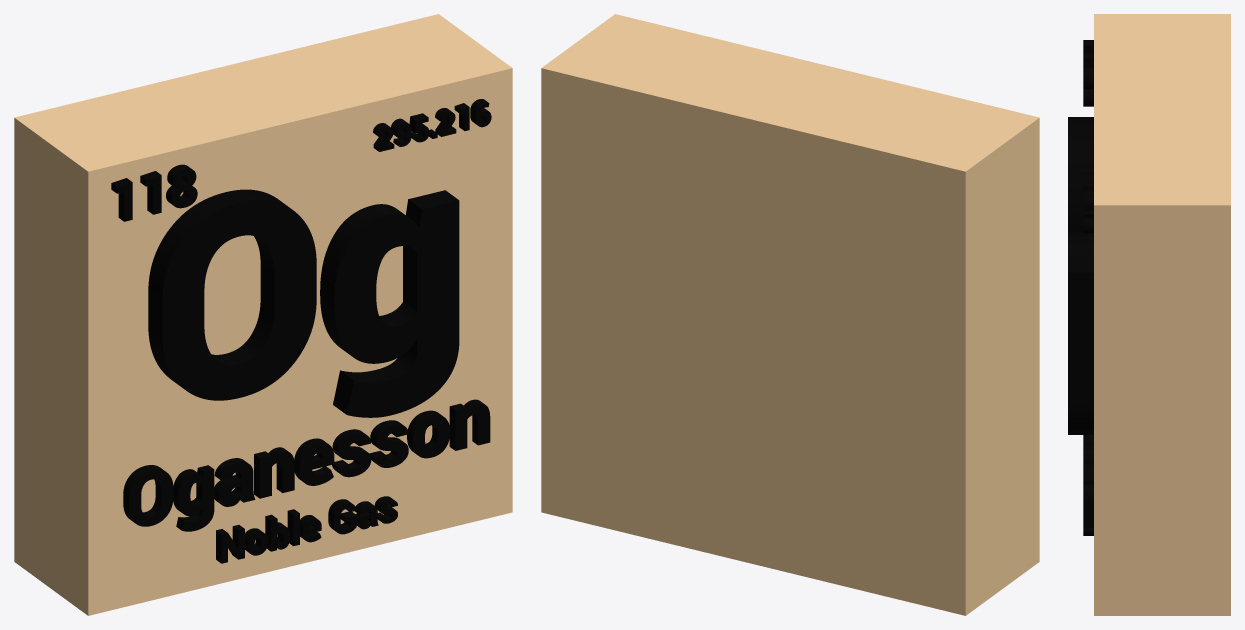
The picture shows the model from 3 angles, left to right: view 1: azimuth 30°, elevation 25°; view 2: azimuth 150°, elevation 25°; view 3: azimuth 270°, elevation 25°; orthographic projection. The views are drawn at different scales.
Visible parts, largest first — view 1: Cube, Text, Text.001, Text.002, Text.004, Text.003; view 2: Cube; view 3: Cube, Text, Text.001, Text.004, Text.003.
Boxes of the visible parts, x1,y1,x2,y2 form: Cube: [14, 14, 512, 615]; Text: [148, 189, 459, 417]; Text.001: [123, 399, 490, 531]; Text.002: [216, 496, 397, 563]; Text.004: [373, 99, 491, 151]; Text.003: [111, 164, 197, 221]; Cube: [541, 14, 1039, 615]; Cube: [1094, 14, 1230, 615]; Text: [1068, 117, 1093, 434]; Text.001: [1083, 435, 1093, 528]; Text.004: [1083, 166, 1093, 233]; Text.003: [1083, 40, 1093, 106].
Size of the model in its own units: 178 by 178 by 63.95.
